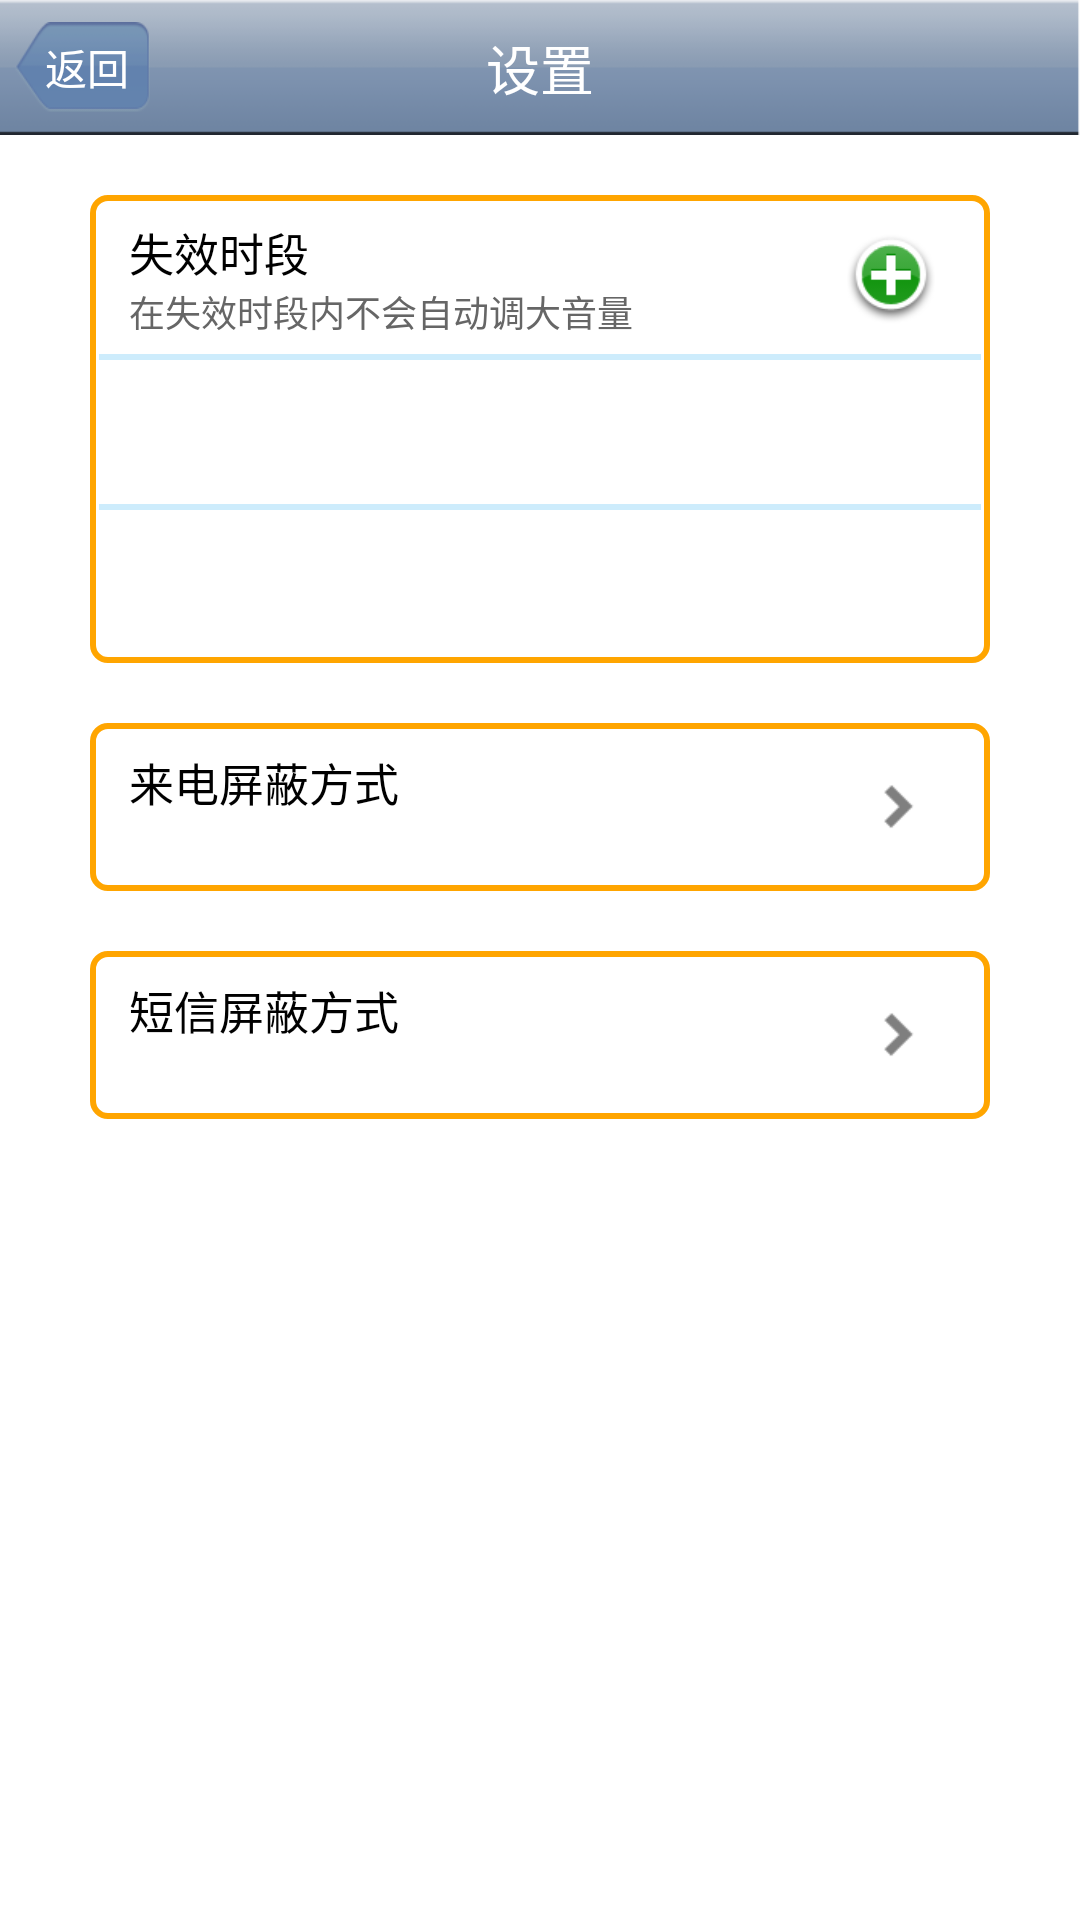

Screen size 1080×1920. Icon name, then its box in pixels as (x1, y1, x2, y2):
add: (851, 244, 931, 319)
